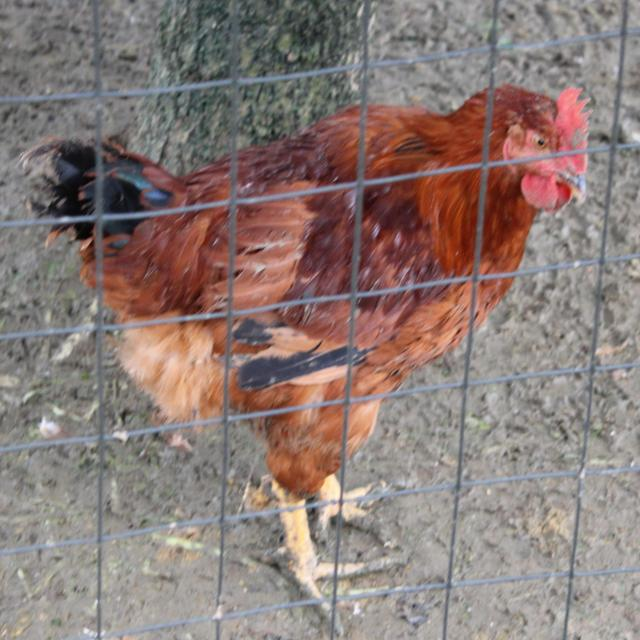cook: (26, 86, 589, 500)
